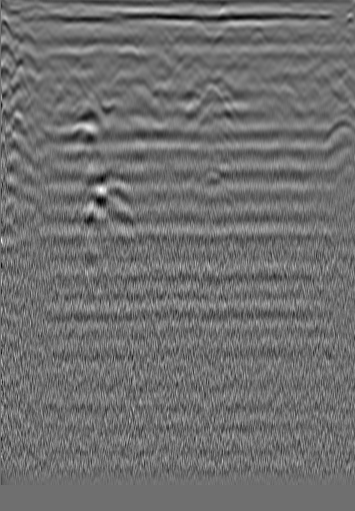상수: (295, 26, 315, 46)
오수: (16, 26, 36, 46)
우수: (138, 22, 158, 42)
